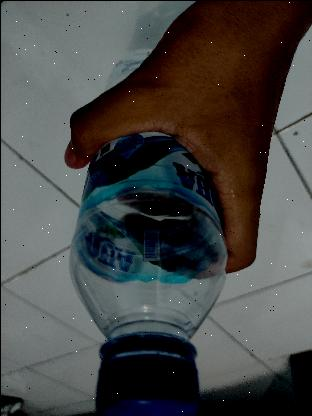Plastic Bottle: (65, 130, 229, 416)
